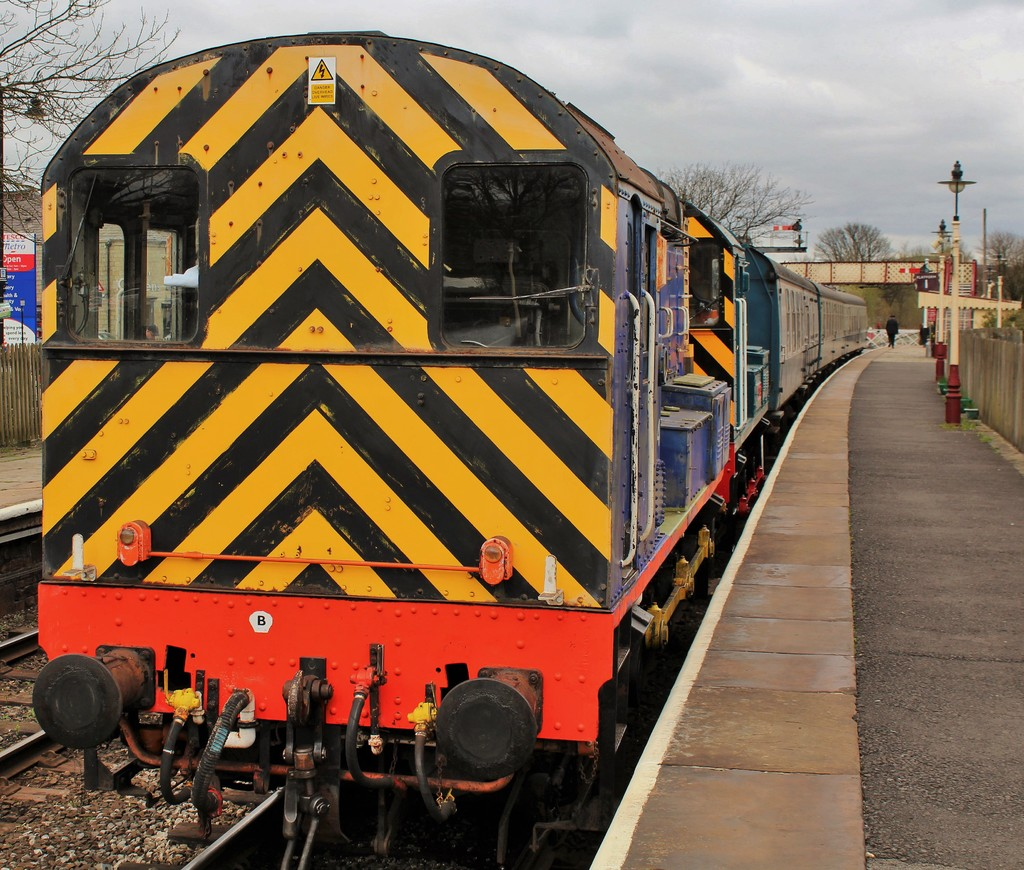train: (33, 30, 869, 869)
